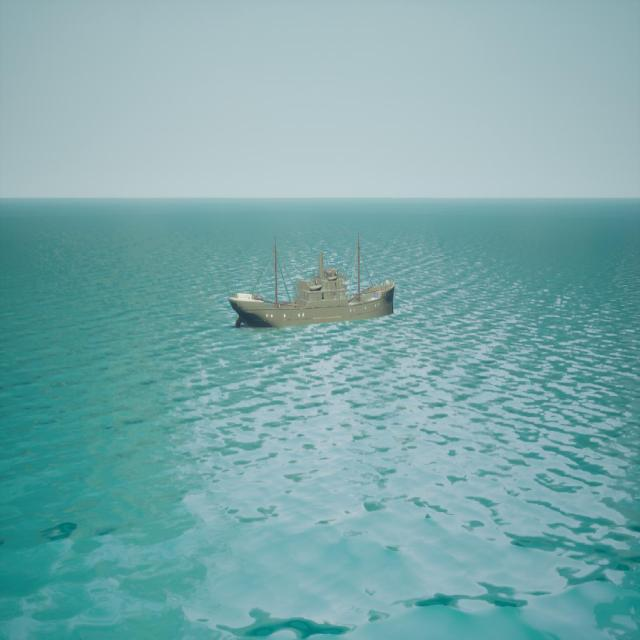fishing ship: (230, 237, 396, 330)
